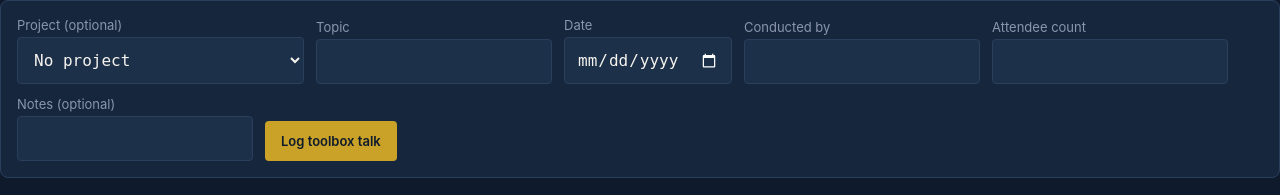
Test: CreateToolboxTalkForm › clears the form on success
This screenshot has width=1280, height=195.
Type "Working at heights" into the field labelled "Topic". click: (434, 62)
box: [316, 39, 552, 84]
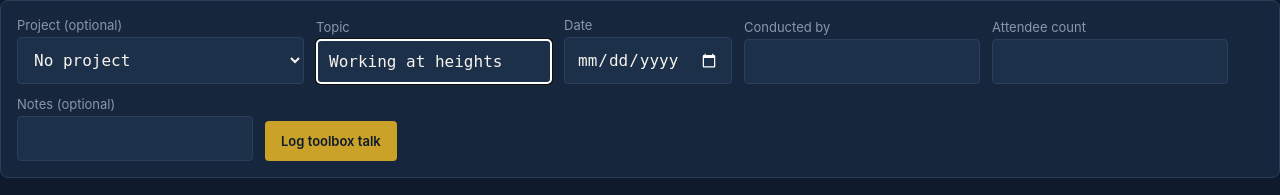
Type "2026-08-01" into the date field labelled "Date". click: (648, 60)
box: [564, 37, 732, 84]
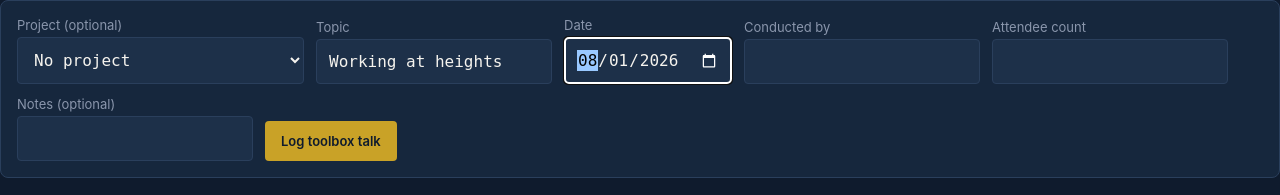
Type "Site Supervisor A" into the field labelled "Conducted by". click: (862, 62)
box: [744, 39, 980, 84]
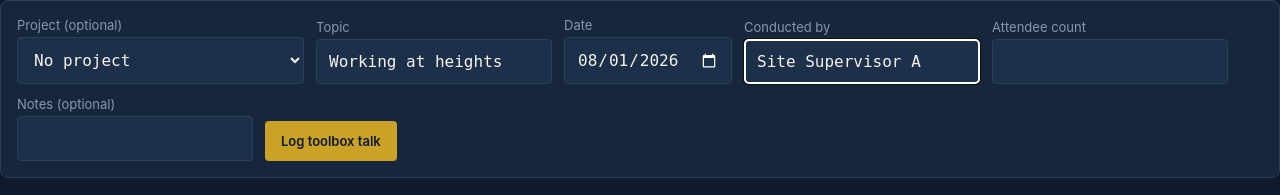
Type "12" into the number field labelled "Attendee count". click: (1110, 62)
box: [992, 39, 1228, 84]
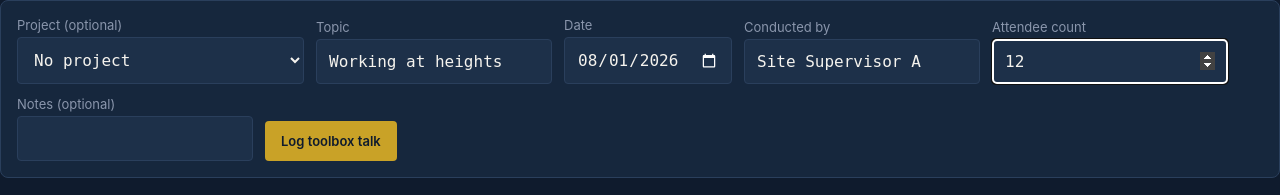
Click the button "Log toolbox talk". click: (331, 141)
box: [265, 121, 397, 161]
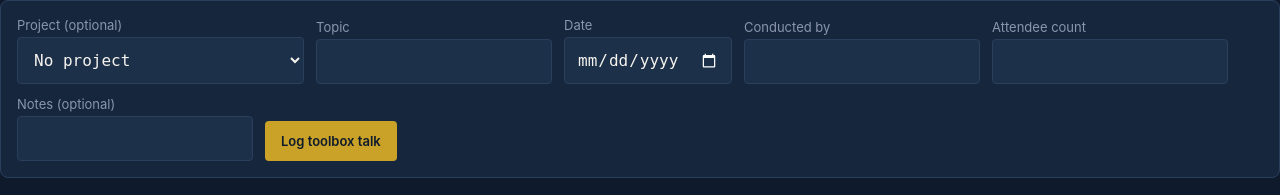
Expected: the field labelled "Topic" is empty, [316, 39, 552, 84]
Expected: the field labelled "Conducted by" is empty, [744, 39, 980, 84]
Expected: the number field labelled "Attendee count" is not empty, [992, 39, 1228, 84]
